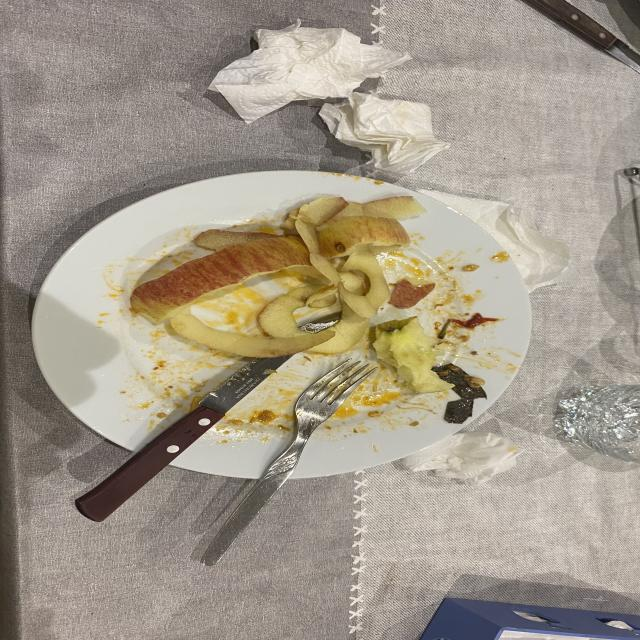fork: (201, 359, 377, 565)
garbage: (131, 196, 435, 357), (208, 20, 448, 175), (420, 190, 571, 293), (400, 431, 521, 485), (372, 317, 454, 393), (432, 363, 486, 424)
knife: (76, 356, 289, 520)
plate: (32, 171, 531, 451), (174, 339, 379, 479), (291, 361, 463, 478)
water cup: (553, 384, 640, 463)
